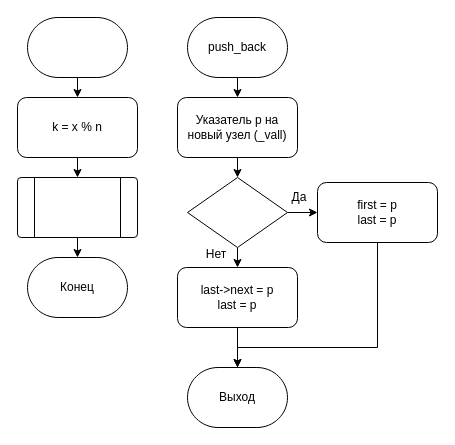
Image size: 455x445. Some labels were removed from this diagram. Here are the shapes that lost their labels. From the top down, the centre of each, then its label:
the point at 77,47: push_key
the point at 77,207: a[k].push_back(x)
the point at 237,212: Список пустой?
